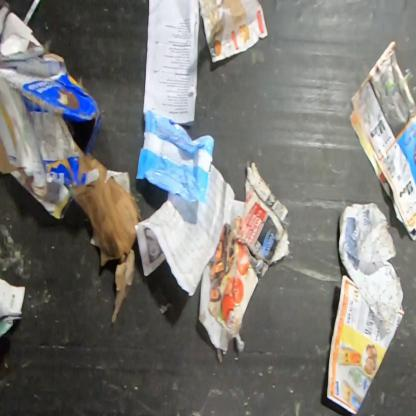cardboard: (0, 51, 103, 198), (0, 277, 27, 319)
soft_plastic: (136, 108, 216, 206)
